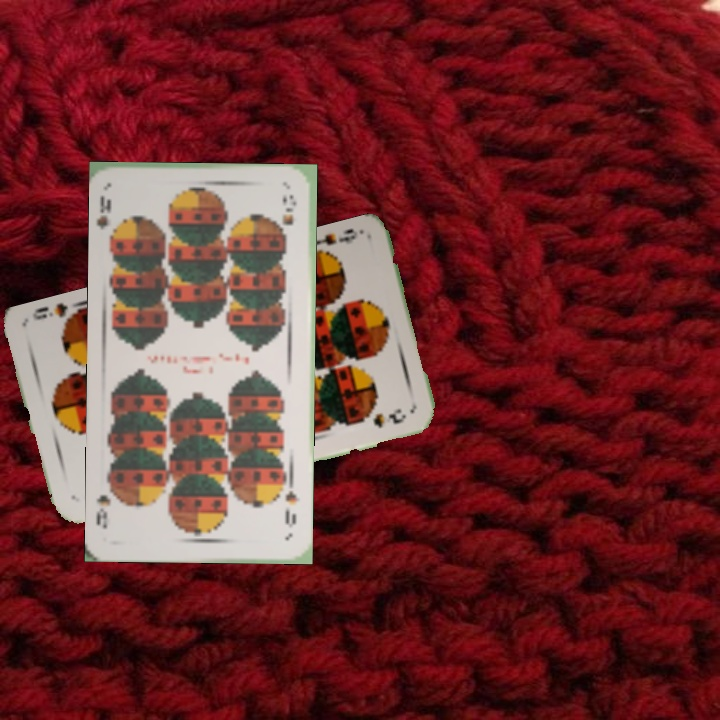S9: (306, 224, 365, 261), (95, 191, 122, 245), (281, 479, 303, 531)
